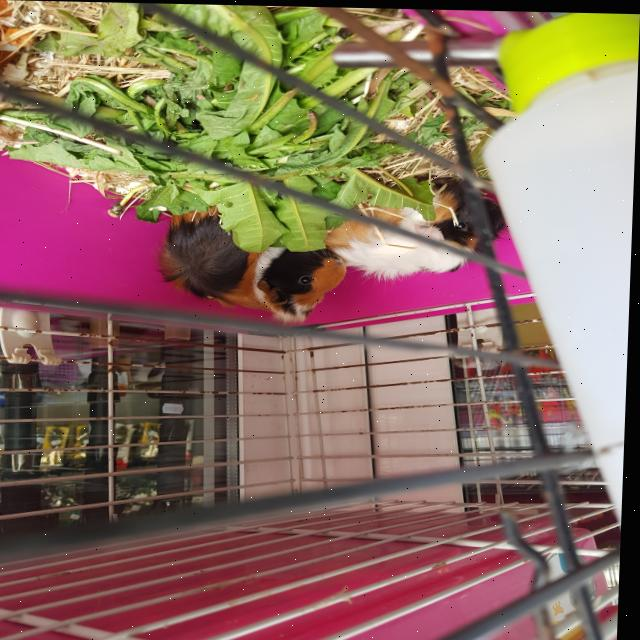guinea pig: (153, 201, 351, 326), (324, 169, 508, 280)
